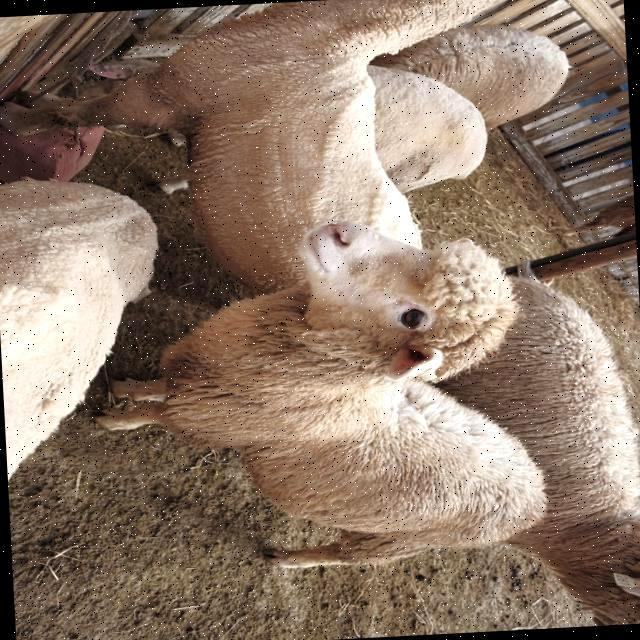sheep: (106, 221, 535, 567), (58, 0, 502, 279), (434, 263, 640, 625), (372, 22, 573, 129), (367, 62, 487, 193), (564, 197, 636, 234)
